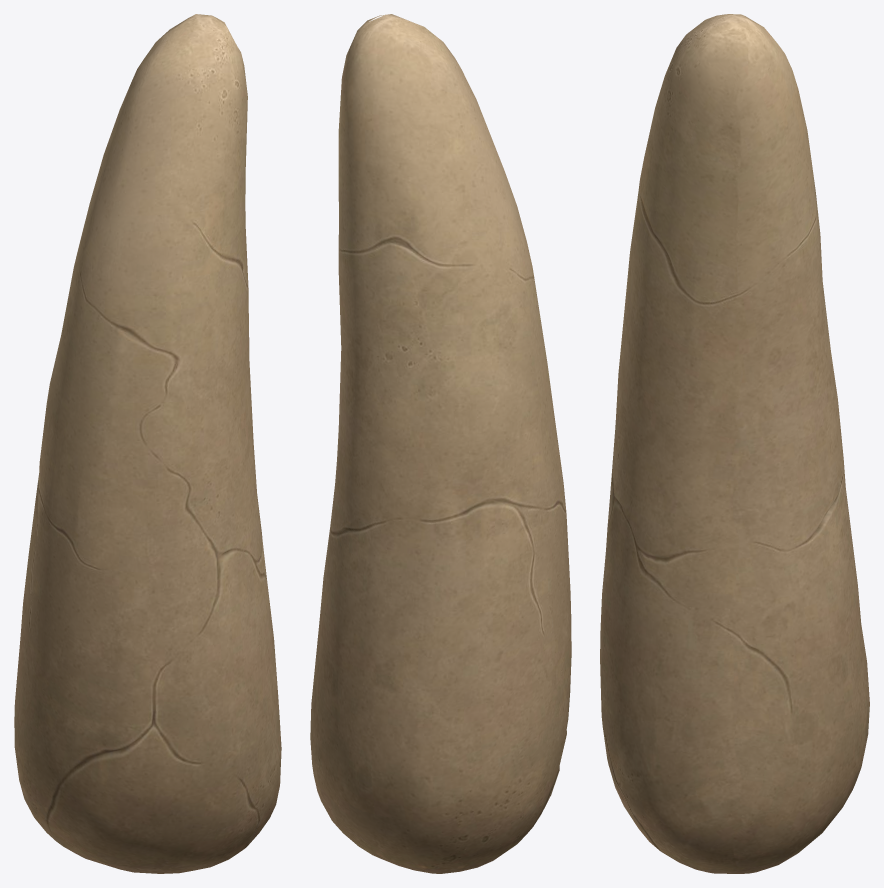
3 renders of one model, left to right at view 1: azimuth 30°, elevation 25°; view 2: azimuth 150°, elevation 25°; view 3: azimuth 270°, elevation 25°, orthographic. The views are drawn at different scales.
Parts seen in each view (by area): view 1: tb_bone_01a; view 2: tb_bone_01a; view 3: tb_bone_01a.
Part boxes in pixels (x1,y1,x2,y2): tb_bone_01a: [14, 14, 281, 873]; tb_bone_01a: [310, 14, 571, 873]; tb_bone_01a: [600, 14, 869, 873].
Bounding box in the file's own units: 1.4 × 4.8 × 1.36.
1 material, 1 textured.
